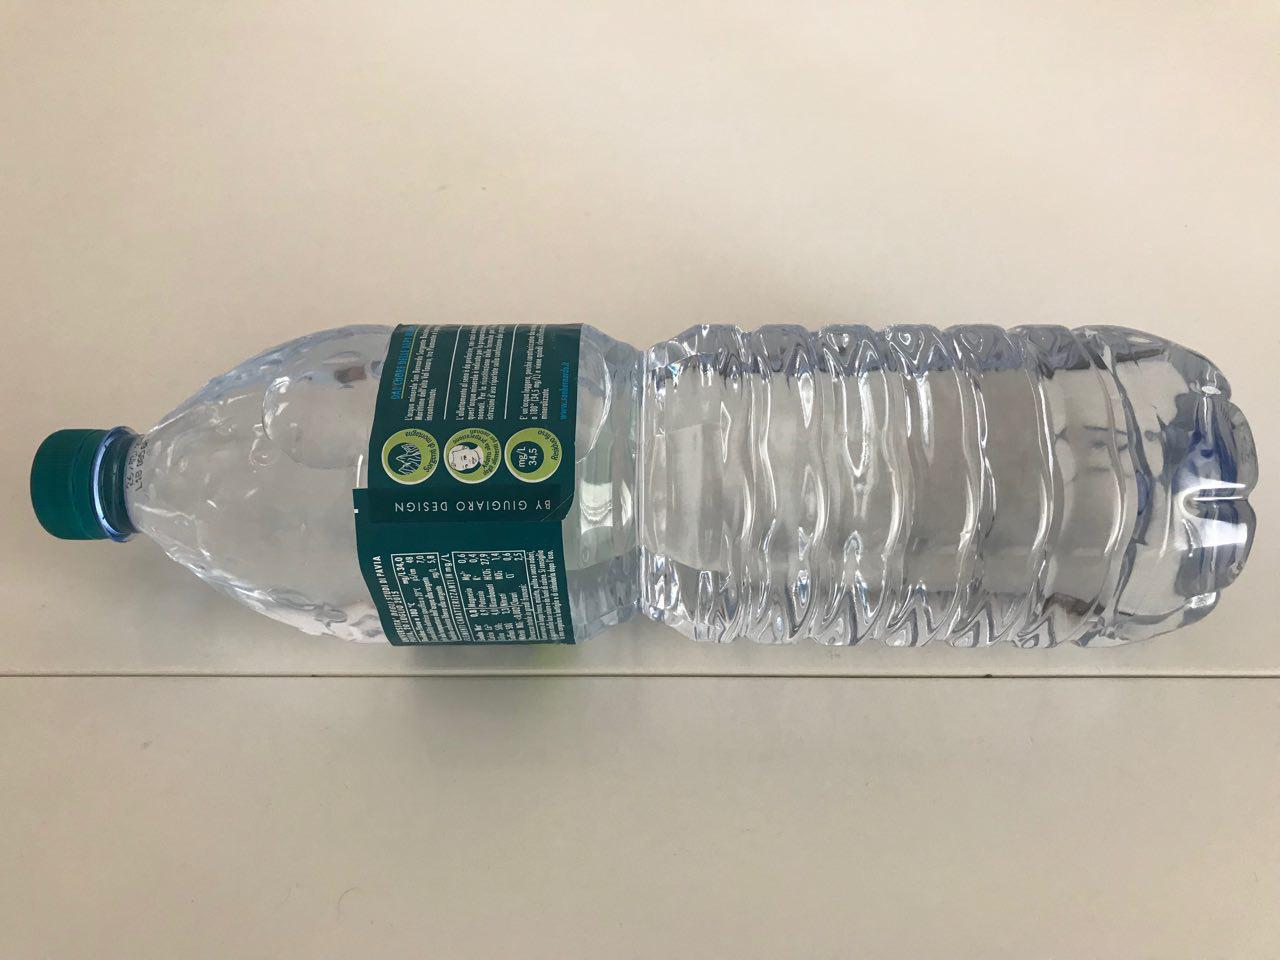san_bernardo: (27, 321, 1261, 653)
